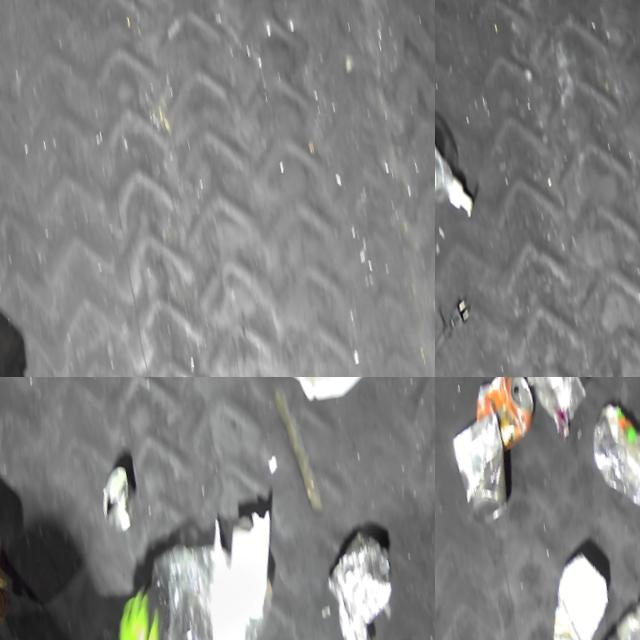can: (443, 408, 530, 528), (536, 540, 638, 640), (463, 377, 551, 456), (97, 457, 156, 537)
plastic_bottle: (579, 384, 640, 519), (552, 585, 640, 640)
